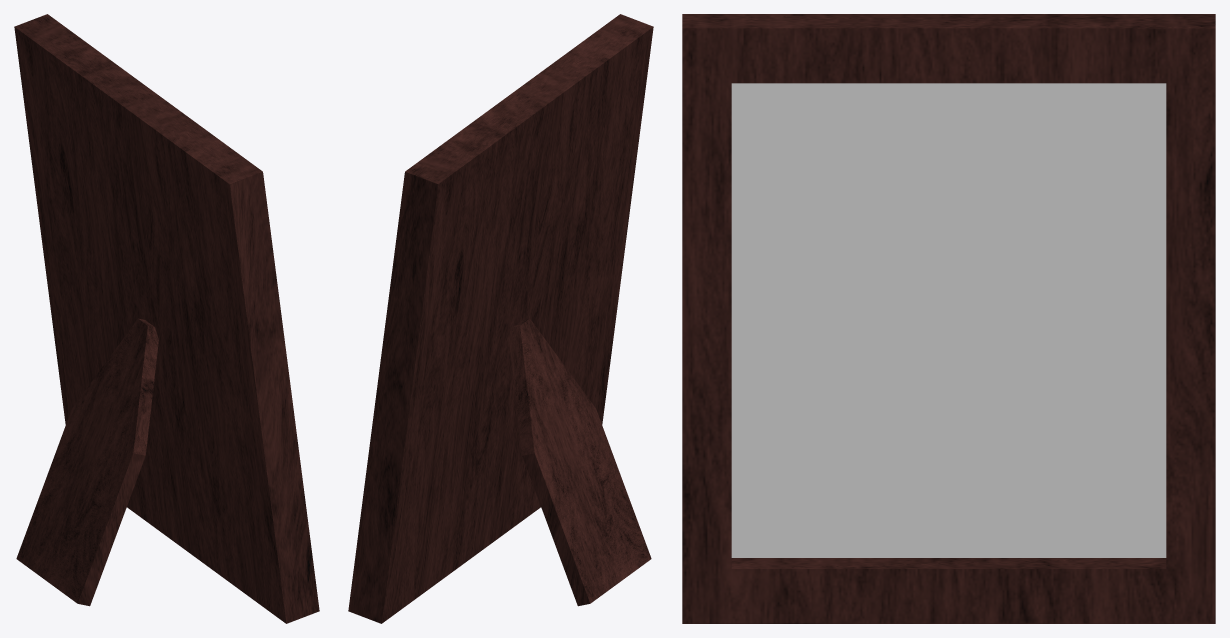
File: Picture_PuzzleItem.fbx
The picture shows the model from 3 angles, left to right: view 1: azimuth 30°, elevation 25°; view 2: azimuth 150°, elevation 25°; view 3: azimuth 270°, elevation 25°; orthographic projection. The views are drawn at different scales.
Visible parts, largest first — view 1: Cube; view 2: Cube; view 3: Cube.
Boxes of the visible parts, x1,y1,x2,y2 form: Cube: [14, 14, 319, 623]; Cube: [348, 14, 653, 623]; Cube: [682, 14, 1215, 623].
Bounding box in the file's own units: 177 × 478 × 399.
Materials: 2 (1 with a texture image).
